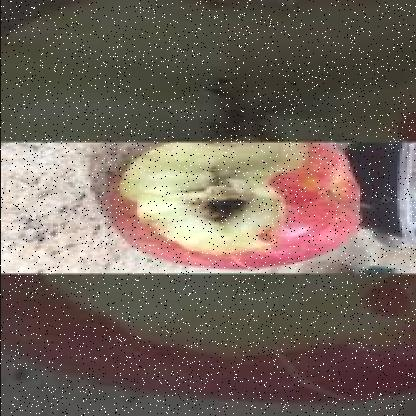damaged_apple: (102, 140, 322, 252)
